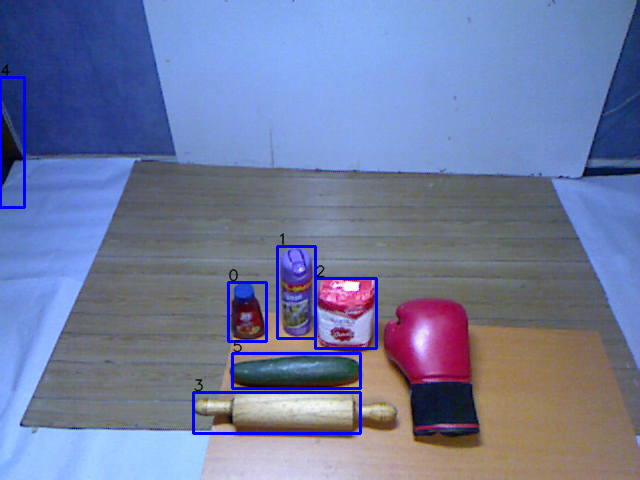aerosol: (273, 245, 318, 341)
guante: (379, 295, 484, 440)
harina: (312, 272, 380, 355)
ketchup: (226, 276, 268, 343)
pepino: (227, 346, 365, 391)
uslero: (187, 384, 400, 439)
